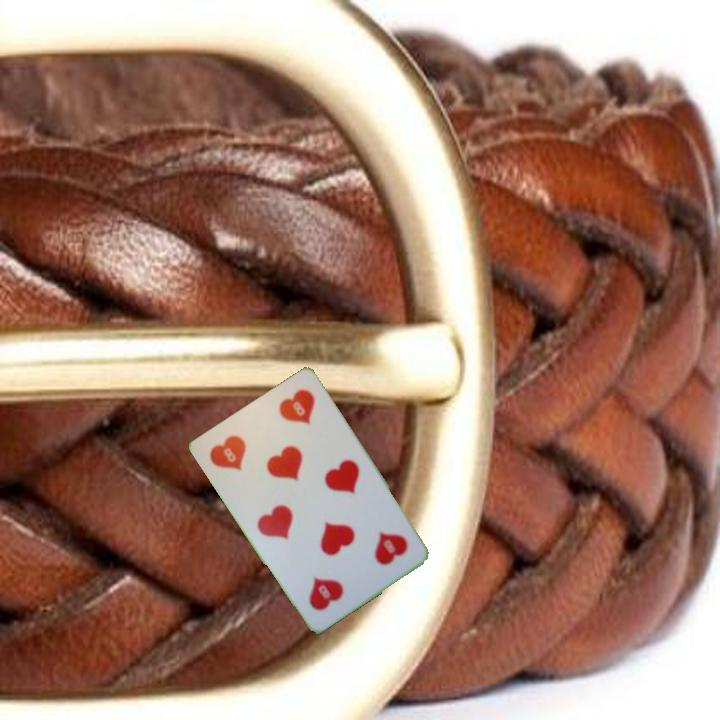h_8.png: (335, 507, 421, 590), (200, 412, 286, 495)
